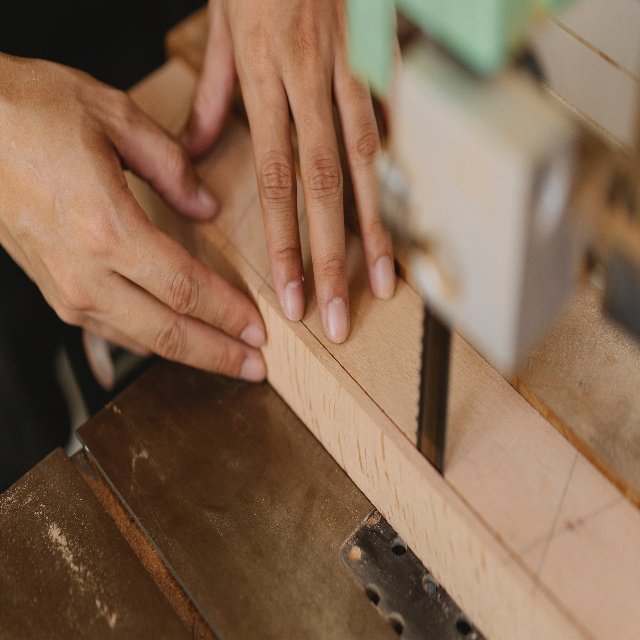Sin_guantes: (0, 47, 266, 383), (177, 0, 397, 345)
